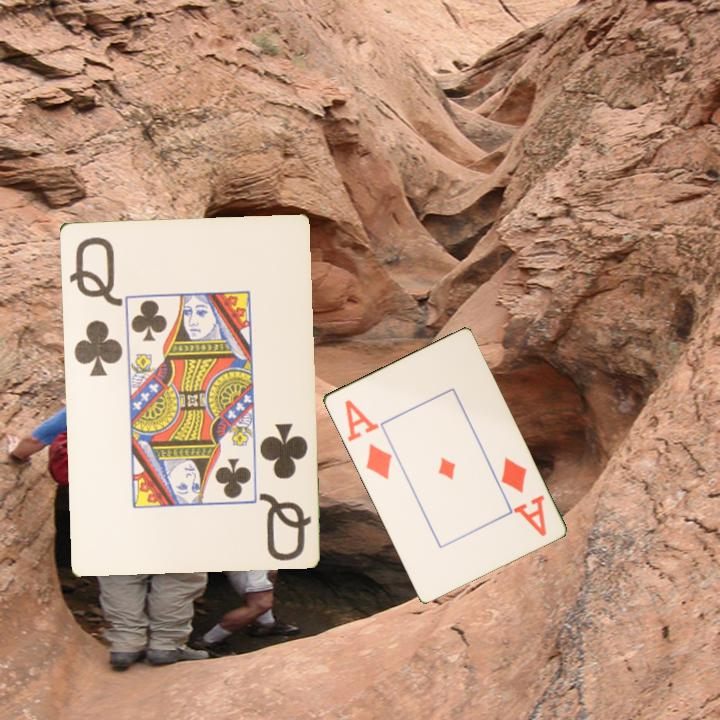Ad: (340, 396, 394, 482), (497, 454, 549, 539)
Qc: (65, 232, 125, 379), (255, 419, 314, 563)
